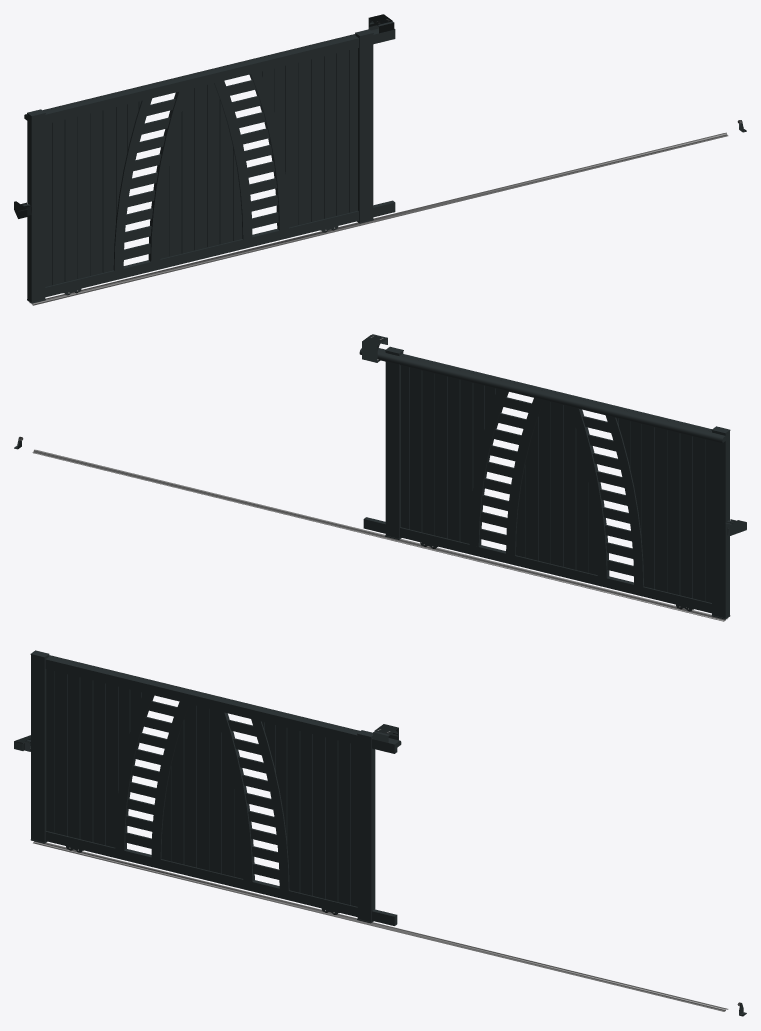
3 views of the same model, one above another, from view 1: azimuth 30°, elevation 25°; view 2: azimuth 150°, elevation 25°; view 3: azimuth 330°, elevation 25° (orthographic).
Visible parts, largest first — view 1: Folha_1, seattle; view 2: Folha_1, seattle; view 3: Folha_1, seattle.
Part boxes in pixels (left/top/right/bottom): Folha_1: left=24, top=28, right=395, bottom=303; seattle: left=14, top=14, right=746, bottom=305; Folha_1: left=359, top=346, right=733, bottom=619; seattle: left=14, top=334, right=746, bottom=621; Folha_1: left=27, top=650, right=401, bottom=925; seattle: left=14, top=724, right=746, bottom=1016.
Bounding box in the file's own units: 641 × 166 × 16.91.
Materials: 1 (1 with a texture image).
